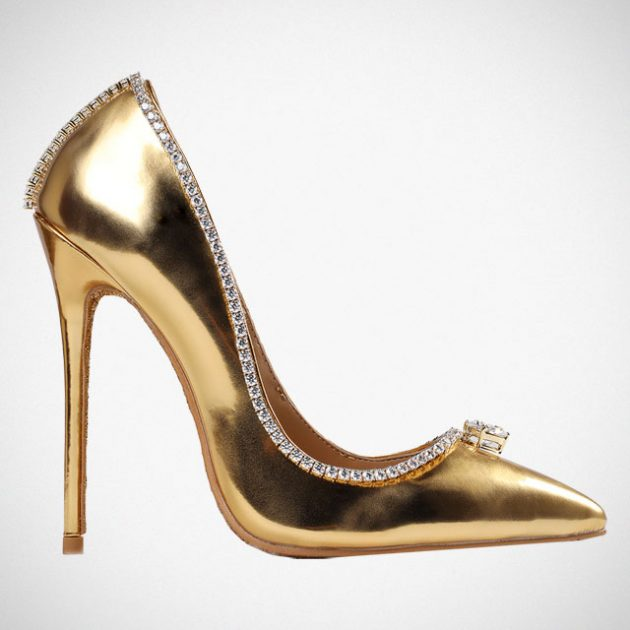shoe: (19, 61, 607, 571)
